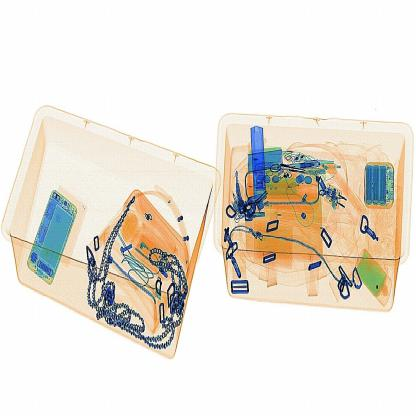pliers: (249, 123, 271, 203)
